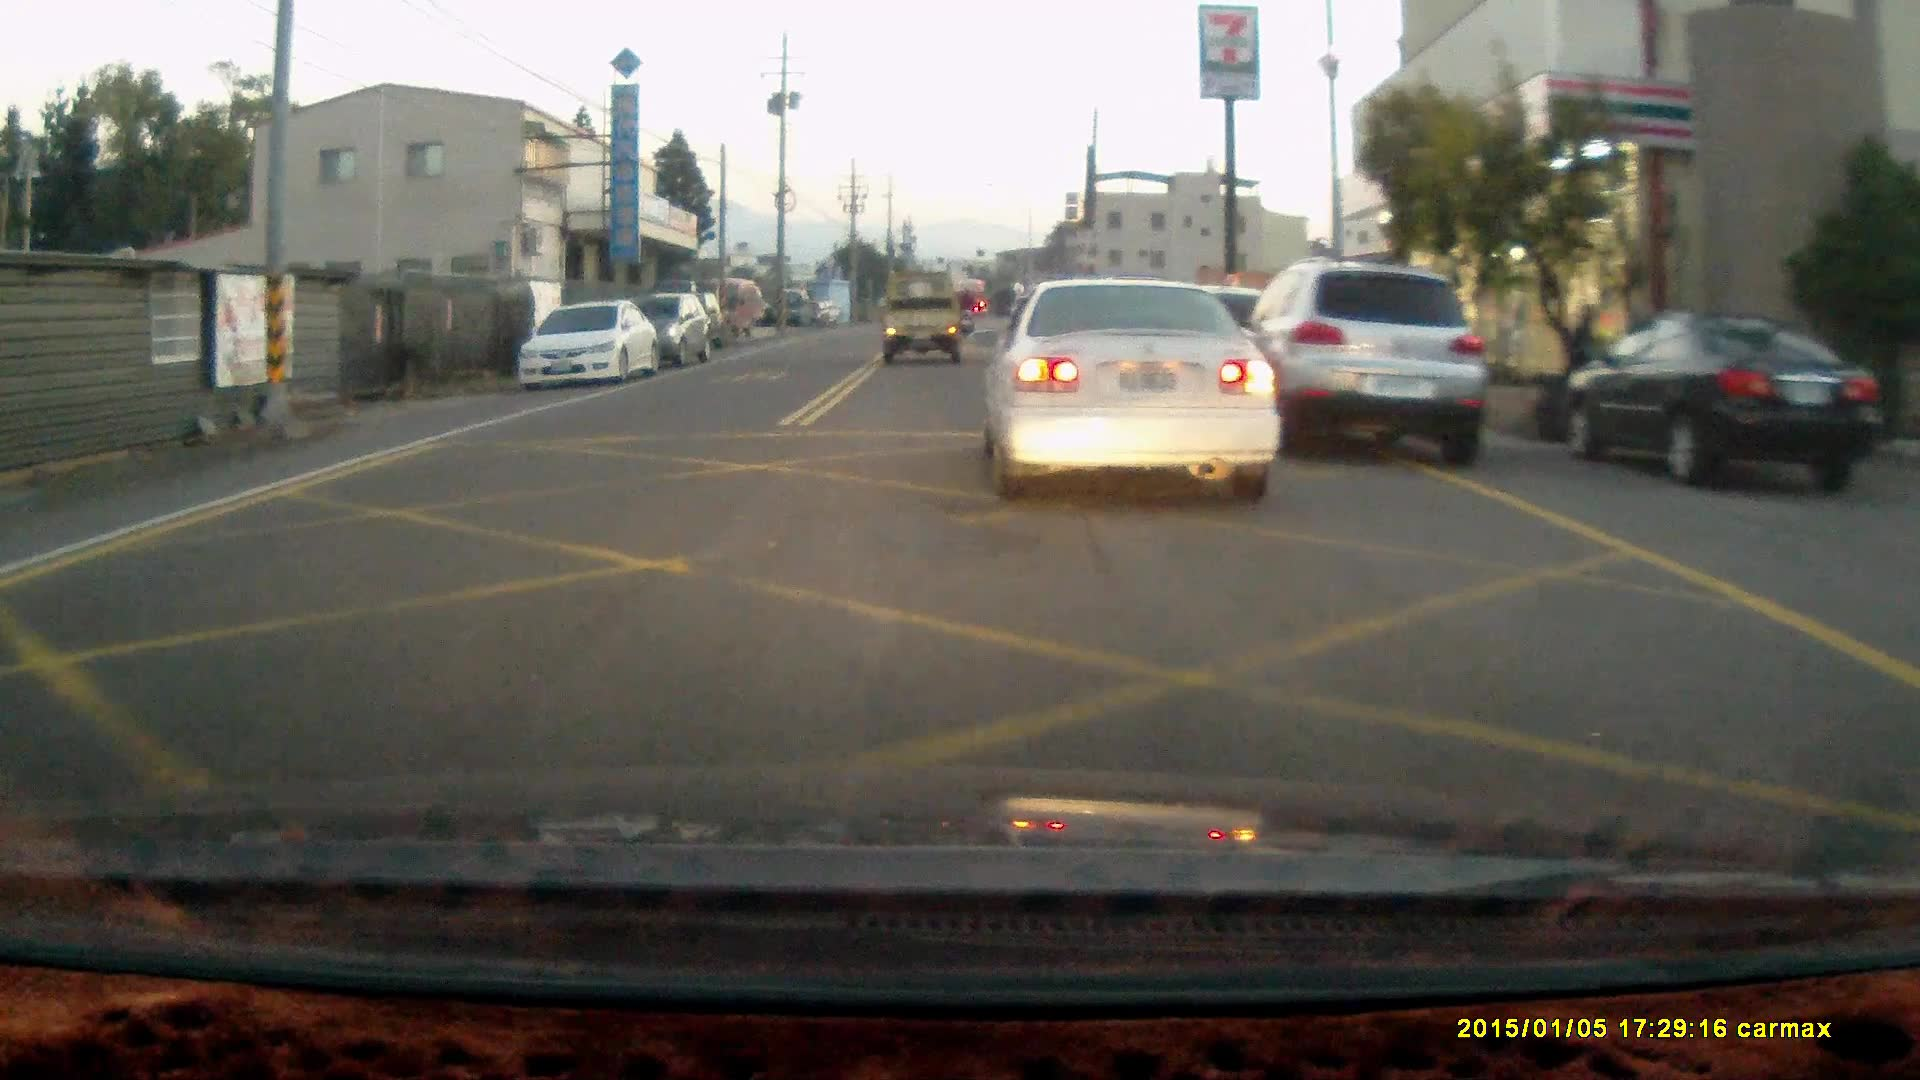rider: (1532, 304, 1636, 441), (952, 284, 978, 336)
vehicle: (979, 276, 1281, 494), (1551, 316, 1888, 490), (1229, 263, 1495, 471), (510, 295, 663, 390), (876, 275, 964, 365), (627, 295, 708, 370)
